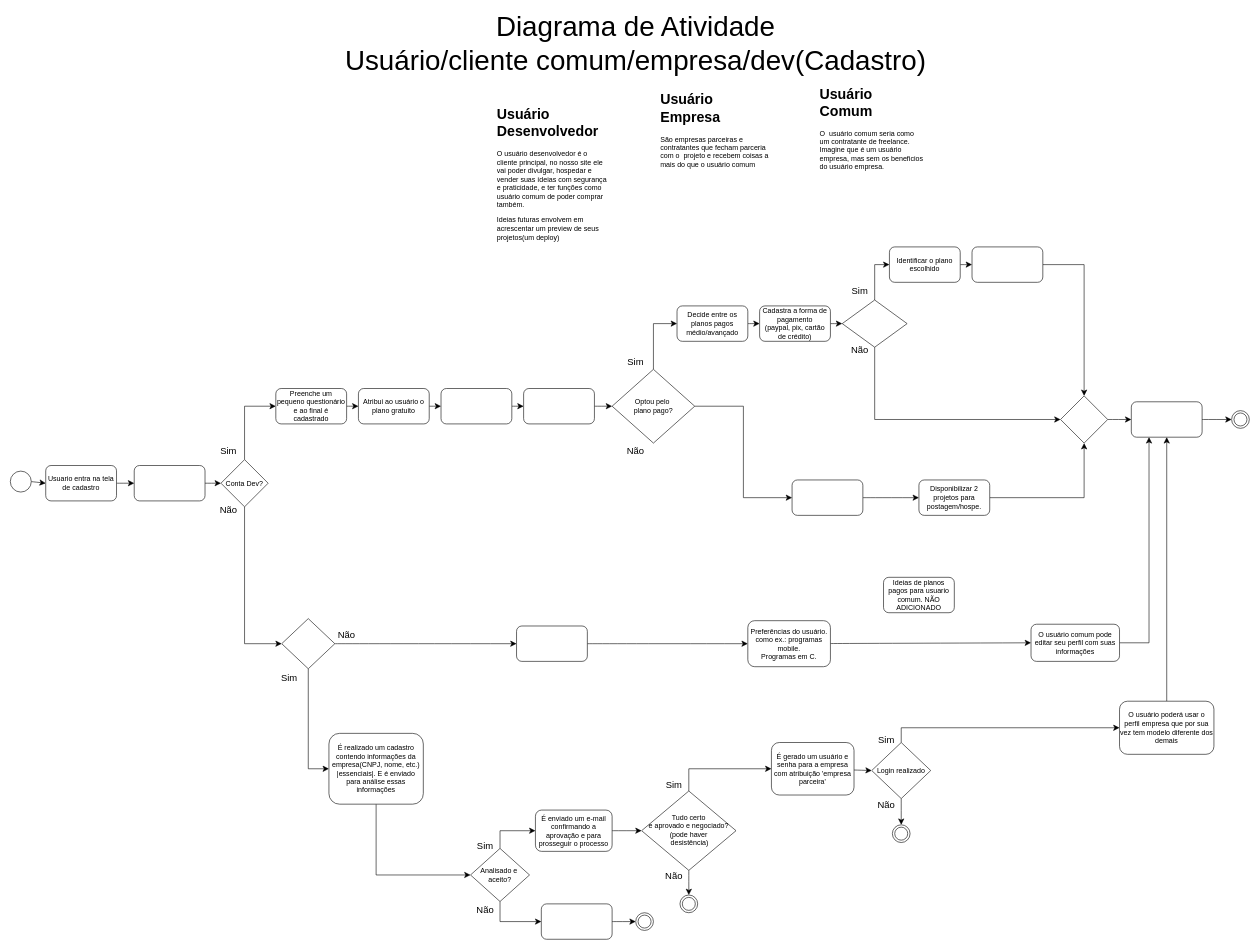
Some shapes in this 1260 by 950 pixel diagram are drawn without their labels. Here are the shapes that lost their labels. From the top down, the centre of each, then its label:
At point 1007,264: "Atribuir ao cliente e alterar o plano antigo para o atual".
At point 874,323: "Realizou a compra?".
At point 476,406: "Dev inicia a nova conta e pode editar seu perfil com suas informações".
At point 558,406: "Exibir planos".
At point 1166,419: "Interface inicial do sistema".
At point 169,483: "É exibido ao usuário o tipo de conta que ele quer dev/empresa/comum".
At point 827,497: "Continuar com o plano gratuito".
At point 308,643: "Conta Empresa?".
At point 551,643: "Cadastro comum.".
At point 576,921: "Envia um e-mail dizendo o do porque não ter sido aprovado".
